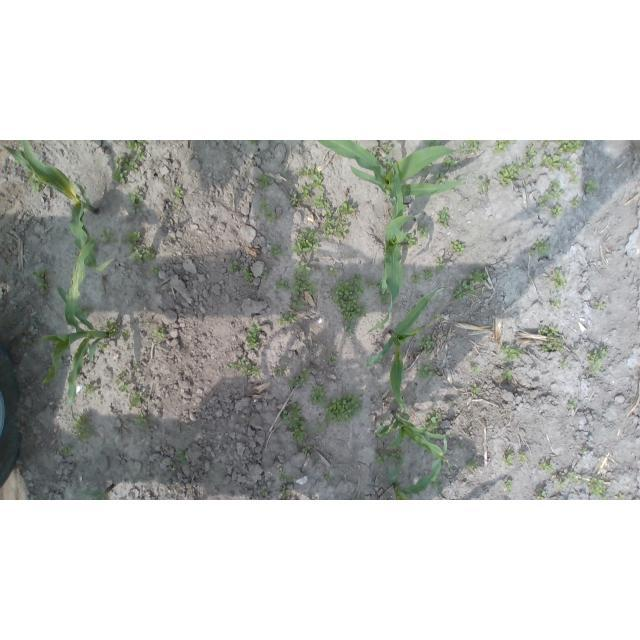Maize: (1, 141, 114, 272), (41, 235, 110, 412), (365, 285, 452, 414), (367, 154, 414, 335), (316, 140, 465, 197), (373, 410, 447, 460), (388, 458, 443, 500), (81, 484, 116, 501)
Weeds: (330, 273, 366, 323), (120, 230, 156, 267), (323, 395, 363, 426), (292, 261, 316, 312), (452, 270, 488, 301), (281, 404, 307, 445), (291, 228, 320, 257), (111, 156, 138, 185), (322, 210, 349, 238), (538, 325, 565, 351), (538, 181, 564, 207), (225, 357, 260, 376), (497, 163, 524, 187), (376, 448, 405, 470), (22, 166, 44, 194), (246, 320, 265, 350), (588, 349, 609, 376), (287, 365, 310, 388), (74, 413, 93, 440), (126, 141, 147, 164), (500, 343, 523, 363), (423, 412, 442, 436), (555, 141, 582, 156), (128, 188, 144, 213), (541, 154, 564, 171), (416, 364, 439, 381), (34, 267, 49, 293), (588, 478, 608, 497), (96, 229, 117, 247), (312, 384, 327, 408), (419, 334, 435, 356), (524, 145, 537, 172), (550, 269, 567, 289), (563, 159, 577, 183), (254, 172, 274, 188), (533, 239, 550, 257), (459, 141, 479, 156), (449, 240, 466, 257), (339, 200, 356, 217), (298, 165, 317, 180), (107, 319, 121, 339), (437, 208, 450, 229), (417, 220, 432, 237), (313, 195, 330, 210), (443, 154, 458, 171), (568, 472, 587, 485), (477, 175, 490, 194), (403, 232, 418, 248), (127, 391, 141, 408), (493, 141, 511, 154), (312, 173, 325, 191), (277, 471, 296, 483), (279, 312, 296, 325), (135, 413, 149, 428), (152, 324, 166, 339), (376, 292, 389, 308), (503, 445, 513, 465), (79, 303, 93, 317), (466, 457, 479, 472), (538, 460, 554, 472), (585, 179, 598, 193), (270, 243, 284, 256), (84, 381, 97, 395), (176, 451, 188, 466), (552, 204, 565, 217), (171, 188, 184, 201), (98, 339, 112, 351), (423, 267, 435, 281), (312, 422, 326, 434), (418, 162, 432, 174), (555, 475, 566, 490), (435, 171, 446, 186), (276, 278, 289, 290), (257, 199, 269, 212), (116, 368, 129, 380), (300, 185, 311, 199), (150, 263, 161, 277), (243, 267, 254, 281), (382, 161, 392, 176), (431, 480, 443, 492), (411, 272, 422, 284), (502, 367, 513, 379), (344, 322, 356, 333), (265, 212, 276, 224), (60, 443, 72, 454), (436, 258, 446, 271), (228, 260, 238, 273), (550, 299, 561, 310), (120, 382, 131, 393), (504, 480, 512, 495), (470, 382, 480, 394), (427, 141, 444, 148), (281, 484, 288, 500), (537, 489, 547, 500), (327, 267, 337, 277), (382, 144, 392, 154), (594, 301, 604, 311), (370, 150, 379, 161), (121, 329, 130, 340), (262, 268, 269, 281), (291, 192, 298, 205), (519, 454, 529, 463), (571, 199, 580, 209), (133, 361, 141, 372), (324, 472, 333, 481), (303, 446, 312, 455), (171, 203, 180, 212), (6, 268, 15, 277), (328, 355, 337, 364), (274, 367, 282, 377), (568, 400, 576, 410), (617, 492, 627, 500), (61, 348, 70, 356), (375, 279, 381, 291), (560, 360, 568, 369), (432, 314, 440, 323), (471, 366, 479, 375), (425, 437, 435, 444), (60, 398, 69, 405), (376, 420, 384, 427), (169, 461, 177, 468), (261, 488, 268, 496), (450, 399, 457, 406), (248, 140, 260, 144), (581, 447, 588, 453), (528, 249, 535, 255), (635, 140, 640, 148), (98, 327, 108, 331), (367, 279, 373, 285), (600, 496, 609, 500), (543, 140, 552, 144), (466, 427, 472, 433), (460, 444, 465, 451), (308, 493, 312, 500), (256, 216, 261, 221), (578, 160, 583, 165), (38, 220, 43, 224), (528, 280, 533, 284), (520, 290, 524, 295), (448, 436, 453, 440), (356, 496, 360, 500)
